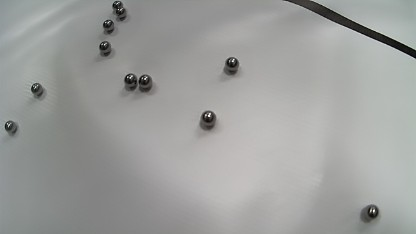ironball: (361, 204, 379, 222), (200, 110, 216, 128), (138, 74, 153, 89), (224, 56, 239, 71), (124, 73, 137, 88), (30, 82, 43, 96), (4, 120, 17, 133), (99, 41, 111, 54), (102, 19, 114, 31), (116, 7, 127, 18), (112, 0, 123, 10)
